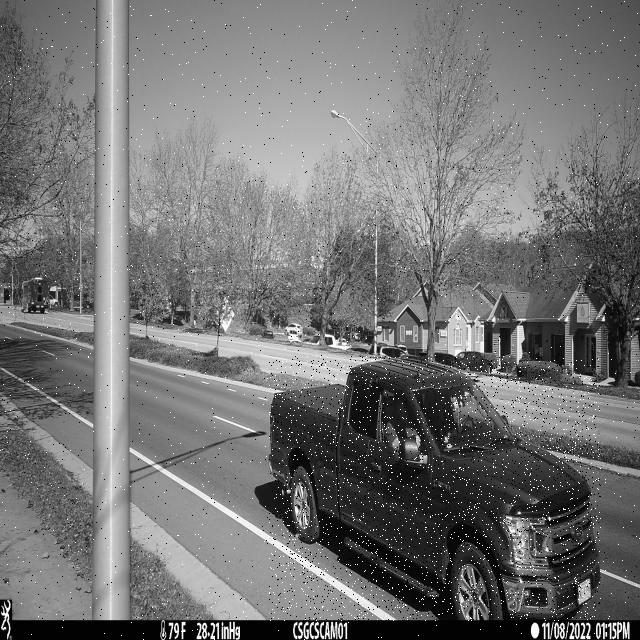Pickup: (269, 356, 601, 621)
